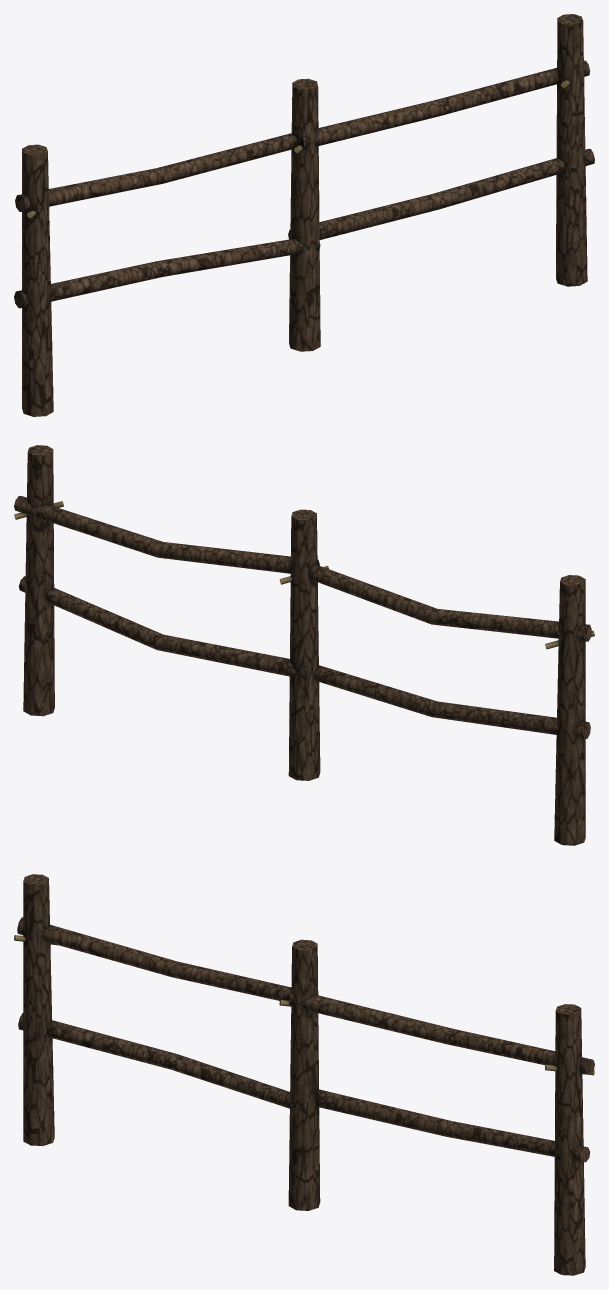
Rendered from mata_cerca_roca.glb.
3 renders of one model, top to bottom at view 1: azimuth 30°, elevation 25°; view 2: azimuth 150°, elevation 25°; view 3: azimuth 330°, elevation 25°, orthographic.
Parts seen in each view (by area): view 1: mata_cerca_roca_tronco; view 2: mata_cerca_roca_tronco; view 3: mata_cerca_roca_tronco.
Boxes of the visible parts, x1=… form: mata_cerca_roca_tronco: x1=14, y1=14, x2=594, y2=416; mata_cerca_roca_tronco: x1=14, y1=445, x2=594, y2=845; mata_cerca_roca_tronco: x1=14, y1=874, x2=594, y2=1275.
Size of the model in its own units: 3.21 by 1.4 by 0.2037.
Materials: 1 (1 with a texture image).
